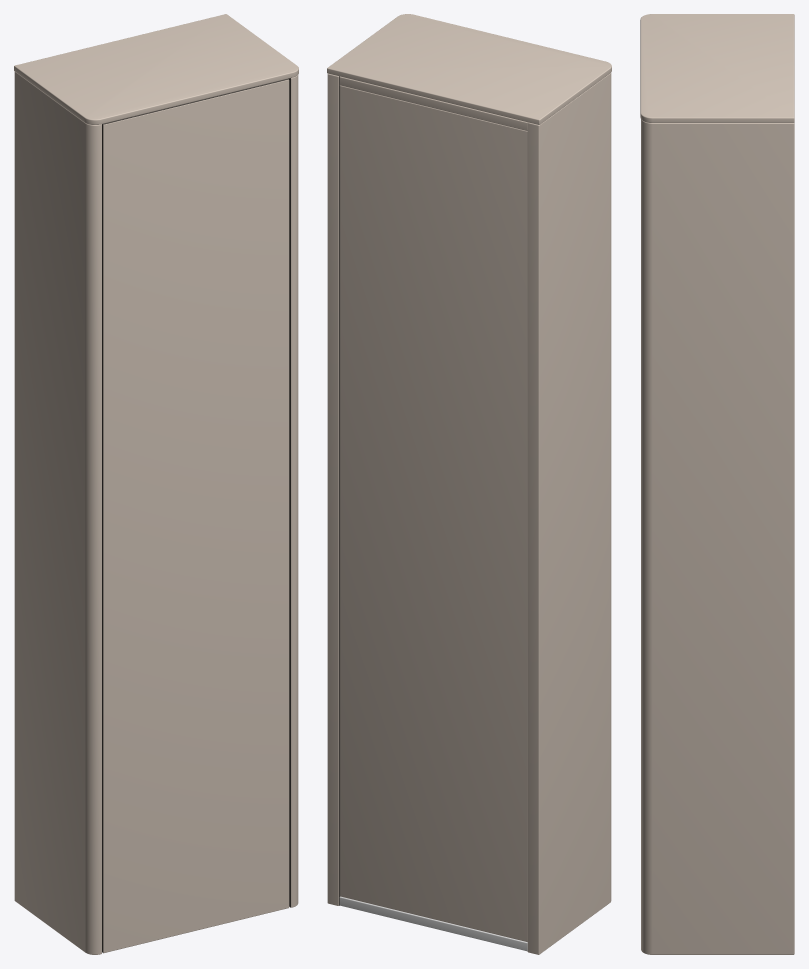
3 views of the same model, side by side, from view 1: azimuth 30°, elevation 25°; view 2: azimuth 150°, elevation 25°; view 3: azimuth 270°, elevation 25° (orthographic).
Visible parts, largest first — view 1: ER10; view 2: ER10; view 3: ER10.
Boxes of the visible parts, bbox=[...] form: ER10: bbox=[14, 14, 298, 954]; ER10: bbox=[327, 14, 611, 954]; ER10: bbox=[640, 14, 794, 954].
Bounding box in the file's own units: 0.4 × 1.5 × 0.25.
